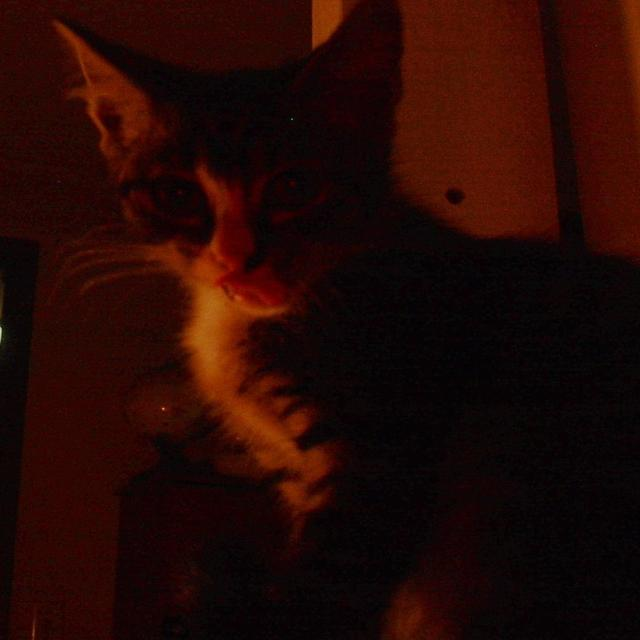Cat: (31, 3, 640, 622)
